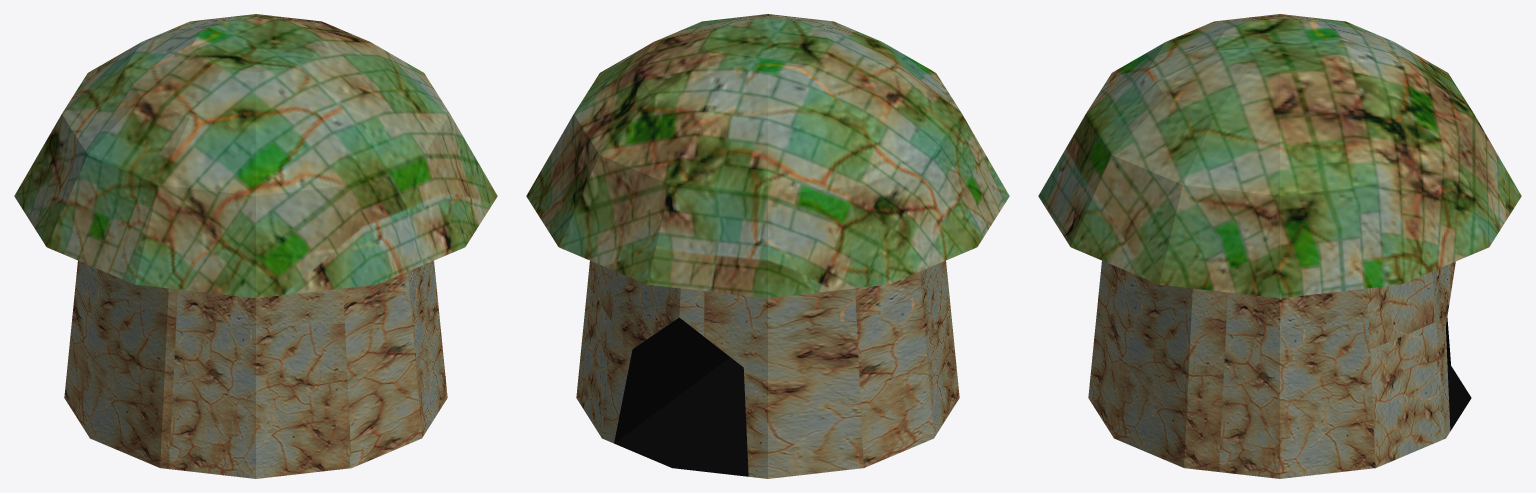
Rendered from 建物ボートハウス.fbx.
The picture shows the model from 3 angles, left to right: view 1: azimuth 30°, elevation 25°; view 2: azimuth 150°, elevation 25°; view 3: azimuth 270°, elevation 25°; orthographic projection.
Visible parts, largest first — view 1: 建物F.001, 建物F; view 2: 建物F.001, 建物F, 建物F.002; view 3: 建物F.001, 建物F, 建物F.002.
Boxes of the visible parts, x1,y1,x2,y2 form: 建物F.001: (14, 14, 497, 298); 建物F: (64, 260, 447, 478); 建物F.001: (526, 14, 1009, 298); 建物F: (576, 260, 959, 478); 建物F.002: (614, 317, 748, 476); 建物F.001: (1038, 14, 1521, 298); 建物F: (1088, 260, 1455, 478); 建物F.002: (1446, 318, 1471, 430).
Bounding box in the file's own units: 103 × 83.17 × 103.
3 materials, 2 textured.
